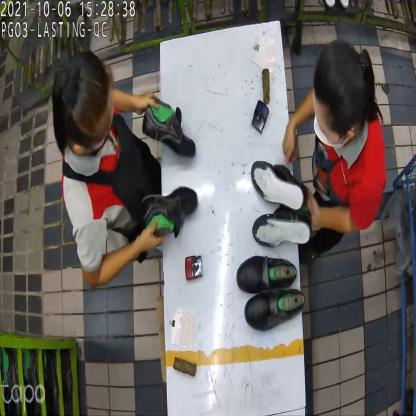shoes: (142, 99, 201, 239), (249, 160, 314, 249), (235, 255, 305, 336)
stamp: (251, 98, 271, 134), (183, 250, 204, 283)
